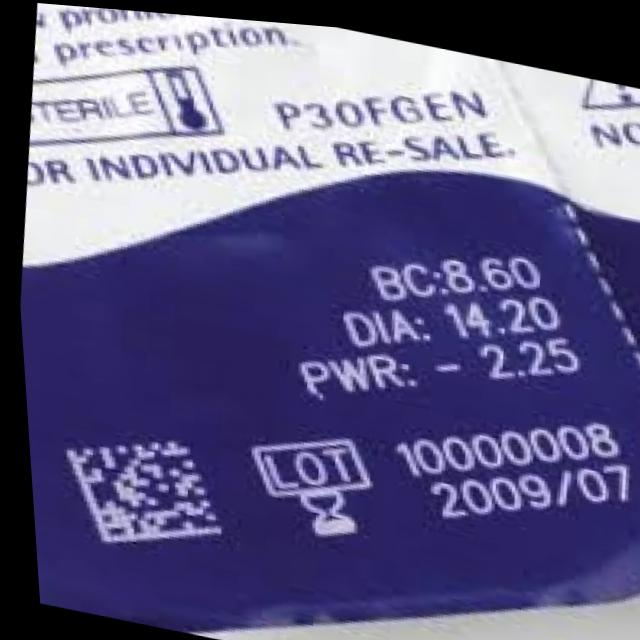datamatrix: (38, 405, 234, 574)
